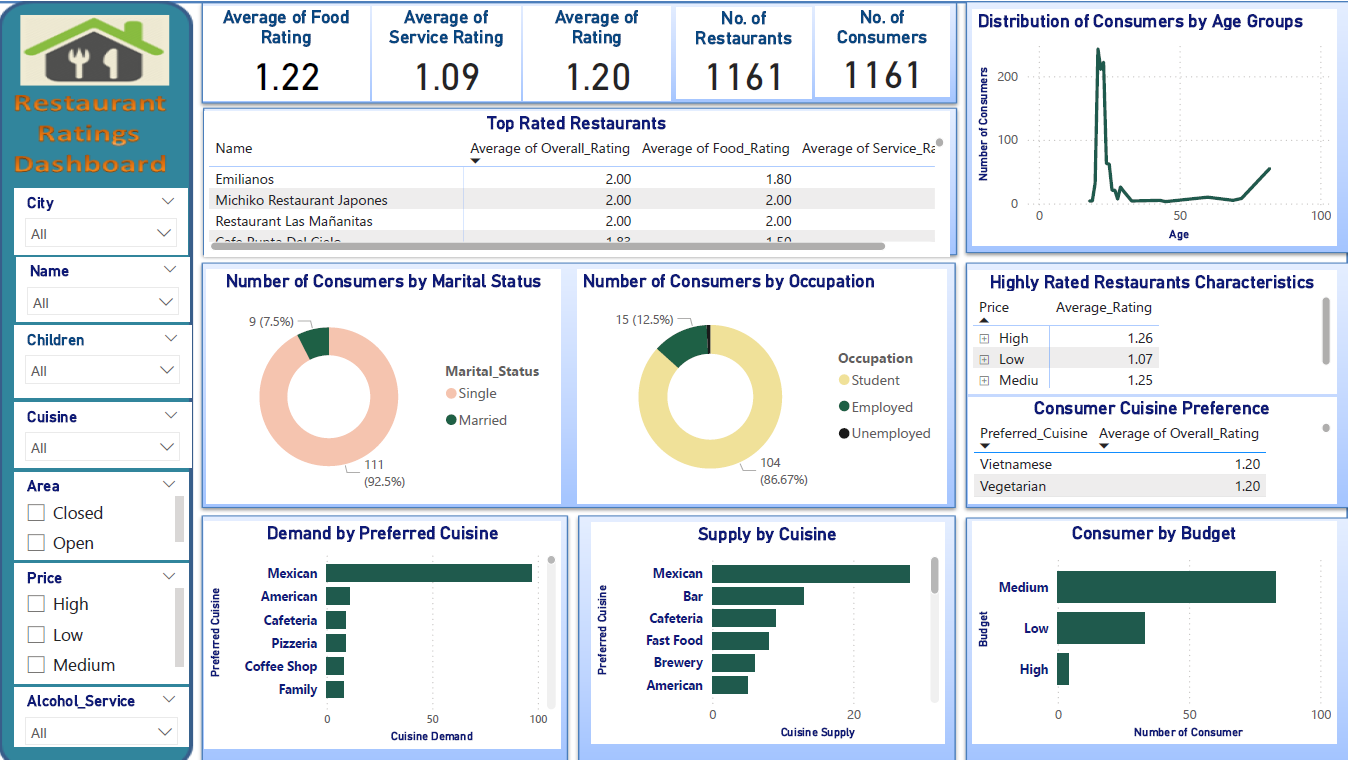

What the dashboard file says about the page in this screenshot:
{"tool":"powerbi","page":{"name":"Page 1","canvas":[1280,720],"ordinal":0},"visuals":[{"type":"pivotTable","title":"Top Rated Restaurants","fields":{"Rows":["restaurants.Name"],"Values":["Avg(ratings.Overall_Rating)","Avg(ratings.Food_Rating)","Avg(ratings.Service_Rating)"]},"box":[195.4,105,707,137.5],"z":0},{"type":"slicer","fields":{"Values":["restaurants.City"]},"box":[14.2,177.8,165,62.6],"z":1000},{"type":"slicer","fields":{"Values":["restaurants.Name"]},"box":[15.6,243.2,165,61.2],"z":2000},{"type":"slicer","fields":{"Values":["restaurant_cuisines.Cuisine"]},"box":[14.2,380.9,167.3,62.3],"z":3000},{"type":"tableEx","title":"Consumer  Cuisine Preference","fields":{"Values":["consumer_preferences.Preferred_Cuisine","Avg(ratings.Overall_Rating)"]},"box":[920.1,375.5,348.8,101.4],"z":4000},{"type":"lineChart","title":"Distribution of Consumers by Age Groups","fields":{"Category":["consumers.Age"],"Y":["CountNonNull(ratings.Consumer_ID)"]},"box":[924.1,8.4,345,223.2],"z":5000},{"type":"donutChart","title":"Number of Consumers by Marital Status","fields":{"Category":["consumers.Marital_Status"],"Y":["CountNonNull(consumers.Consumer_ID)"]},"box":[196.6,254.6,336.6,222],"z":6000},{"type":"donutChart","title":"Number of Consumers by Occupation","fields":{"Category":["consumers.Occupation"],"Y":["CountNonNull(consumers.Consumer_ID)"]},"box":[548.9,254.6,349.9,222],"z":7000},{"type":"barChart","title":"Consumer by Budget","fields":{"Category":["consumers.Budget"],"Y":["CountNonNull(consumers.Consumer_ID)"]},"box":[923.5,494,345.4,211.2],"z":8000},{"type":"clusteredBarChart","title":"Demand by Preferred Cuisine","fields":{"Category":["consumer_preferences.Preferred_Cuisine"],"Y":["consumer_preferences.Cuisine Demand"]},"box":[195.1,494,338.3,214.8],"z":9000},{"type":"barChart","title":"Supply by Cuisine","fields":{"Category":["restaurant_cuisines.Cuisine"],"Y":["restaurant_cuisines.Cuisine_Supply"]},"box":[561.8,494.9,335.6,210.5],"z":10000},{"type":"pivotTable","title":"Highly Rated Restaurants Characteristics","fields":{"Rows":["restaurants.Price","restaurants.Area","restaurants.Franchise","restaurants.Alcohol_Service"],"Values":["ratings.Average_Rating"]},"box":[920.1,256.3,348.8,115.7],"z":11000},{"type":"slicer","fields":{"Values":["restaurants.Area"]},"box":[14.2,446.7,165.5,83.6],"z":12000},{"type":"slicer","fields":{"Values":["restaurants.Price"]},"box":[14.2,533.9,165.5,113.9],"z":13000},{"type":"slicer","fields":{"Values":["restaurants.Alcohol_Service"]},"box":[14.2,651.4,165.5,55.2],"z":14000},{"type":"card","title":"Average of Food Rating","fields":{"Values":["Avg(ratings.Food_Rating)"]},"box":[194,5.3,156.6,89],"z":15000},{"type":"card","title":"Average of Service Rating","fields":{"Values":["Avg(ratings.Service_Rating)"]},"box":[354.2,5.3,140.6,89],"z":16000},{"type":"card","title":"Average of Rating","fields":{"Values":["ratings.Average_Rating"]},"box":[498.3,5.3,138.8,89],"z":17000},{"type":"slicer","fields":{"Values":["consumers.Children"]},"box":[14.2,307.9,167.3,67.6],"z":18000},{"type":"card","title":"No. of Consumers","fields":{"Values":["CountNonNull(ratings.Consumer_ID)"]},"box":[774.5,4.8,127.9,85.7],"z":19000},{"type":"card","title":"No. of Restaurants","fields":{"Values":["CountNonNull(ratings.Restaurant_ID)"]},"box":[643,6,127.9,85.7],"z":20000}]}

Visuals, with their boxes in screenshot pixels (x1, y1, x2, y2), scaled from the page's 1280x720 canvas onto the 1359x777 screenshot:
"Top Rated Restaurants" pivotTable: <box>207,113,958,262</box>
slicer - restaurants.City: <box>15,192,190,259</box>
slicer - restaurants.Name: <box>17,262,192,328</box>
slicer - restaurant_cuisines.Cuisine: <box>15,411,193,478</box>
"Consumer  Cuisine Preference" tableEx: <box>977,405,1347,515</box>
"Distribution of Consumers by Age Groups" lineChart: <box>981,9,1347,250</box>
"Number of Consumers by Marital Status" donutChart: <box>209,275,566,514</box>
"Number of Consumers by Occupation" donutChart: <box>583,275,954,514</box>
"Consumer by Budget" barChart: <box>980,533,1347,761</box>
"Demand by Preferred Cuisine" clusteredBarChart: <box>207,533,566,765</box>
"Supply by Cuisine" barChart: <box>596,534,953,761</box>
"Highly Rated Restaurants Characteristics" pivotTable: <box>977,277,1347,401</box>
slicer - restaurants.Area: <box>15,482,191,572</box>
slicer - restaurants.Price: <box>15,576,191,699</box>
slicer - restaurants.Alcohol_Service: <box>15,703,191,763</box>
"Average of Food Rating" card: <box>206,6,372,102</box>
"Average of Service Rating" card: <box>376,6,525,102</box>
"Average of Rating" card: <box>529,6,676,102</box>
slicer - consumers.Children: <box>15,332,193,405</box>
"No. of Consumers" card: <box>822,5,958,98</box>
"No. of Restaurants" card: <box>683,6,818,99</box>
